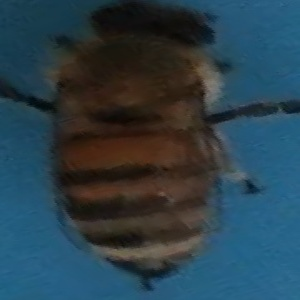bee: (2, 1, 300, 290)
